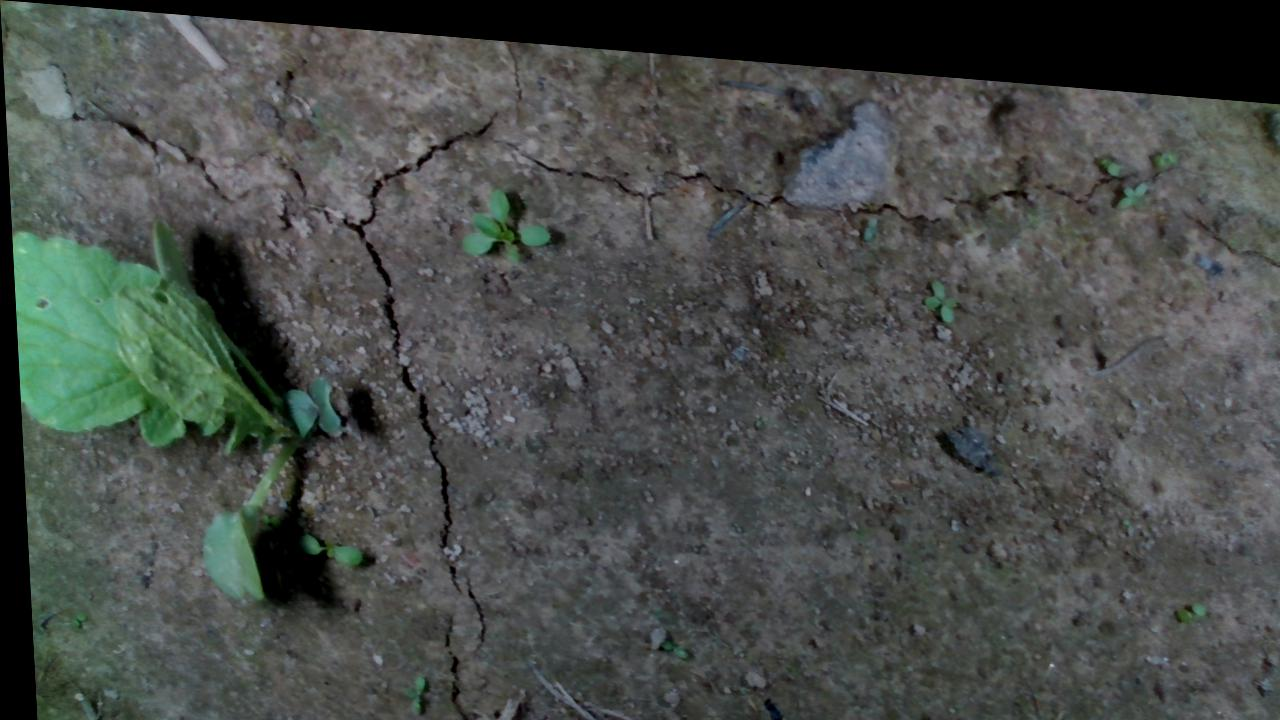weed: (290, 524, 358, 562), (916, 257, 958, 309), (1111, 157, 1148, 195), (393, 665, 420, 711), (1165, 579, 1202, 605), (1091, 129, 1119, 157), (649, 626, 681, 647), (858, 197, 876, 226), (252, 508, 279, 524), (61, 608, 80, 628)
